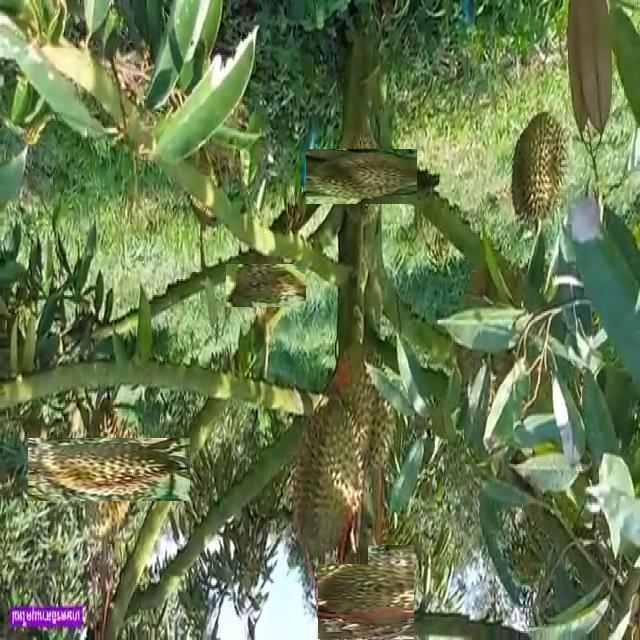durian: (288, 394, 368, 564), (53, 413, 166, 526), (318, 544, 413, 640), (507, 108, 570, 232), (320, 134, 403, 218), (332, 368, 399, 471), (235, 255, 297, 317)
